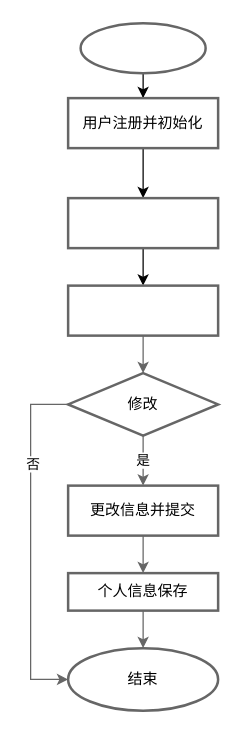
This 241x733 diagram has some shape labels left out. Here are the shapes that lost their labels. From the top down, the box of each, then its label:
(79, 21, 206, 74): 开始
(66, 196, 219, 249): 用户登录
(66, 284, 219, 336): 查看用户个人信息
